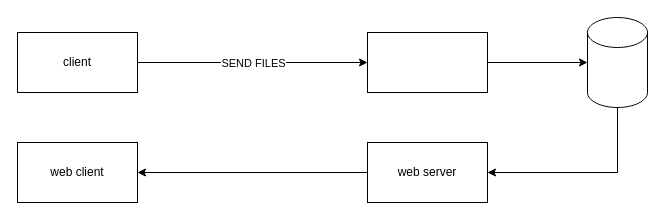
This 666x220 diagram has some shape labels left out. Here are the shapes that lost their labels. From the top down, the box of each, then its label:
(366, 32, 488, 92): file server
(586, 16, 648, 108): DATABASE
